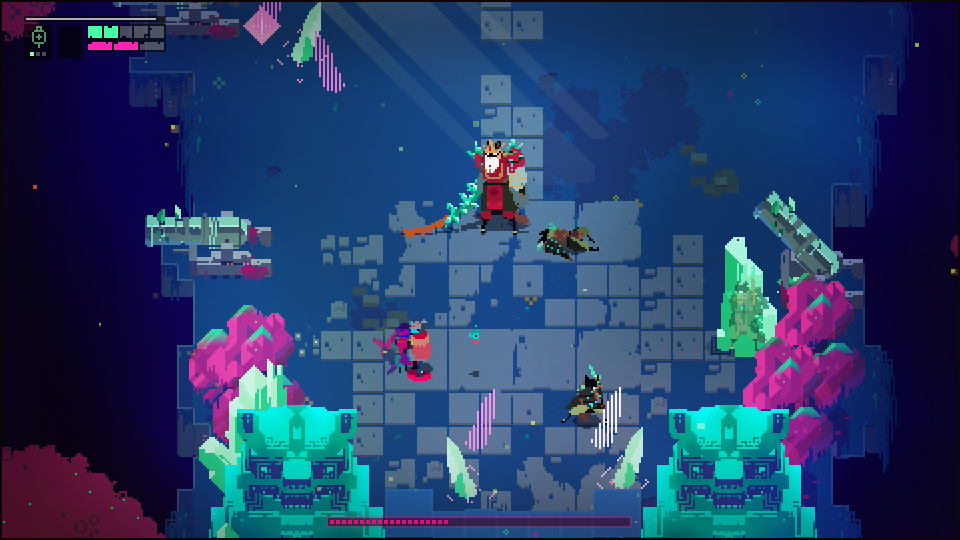hanged_crys: (601, 423, 651, 492), (442, 437, 485, 503), (587, 382, 625, 449), (287, 6, 325, 73), (309, 32, 349, 94), (465, 387, 498, 438), (249, 1, 278, 38)
hanged_man: (443, 134, 534, 242)
player: (403, 317, 431, 380)
